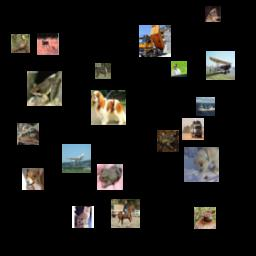airplane: (206, 51, 235, 80), (62, 144, 91, 173)
bird: (11, 34, 30, 53), (171, 61, 187, 77)
cat: (72, 206, 94, 228)
deer: (37, 33, 59, 55), (194, 207, 216, 229)
dog: (91, 90, 126, 125), (184, 147, 219, 182), (22, 168, 44, 190), (95, 63, 111, 79), (205, 6, 221, 22)
frog: (27, 71, 62, 106), (97, 164, 123, 190), (157, 130, 179, 152), (17, 123, 39, 145)
ship: (196, 97, 215, 116)
truck: (139, 25, 171, 57), (182, 118, 204, 140)
